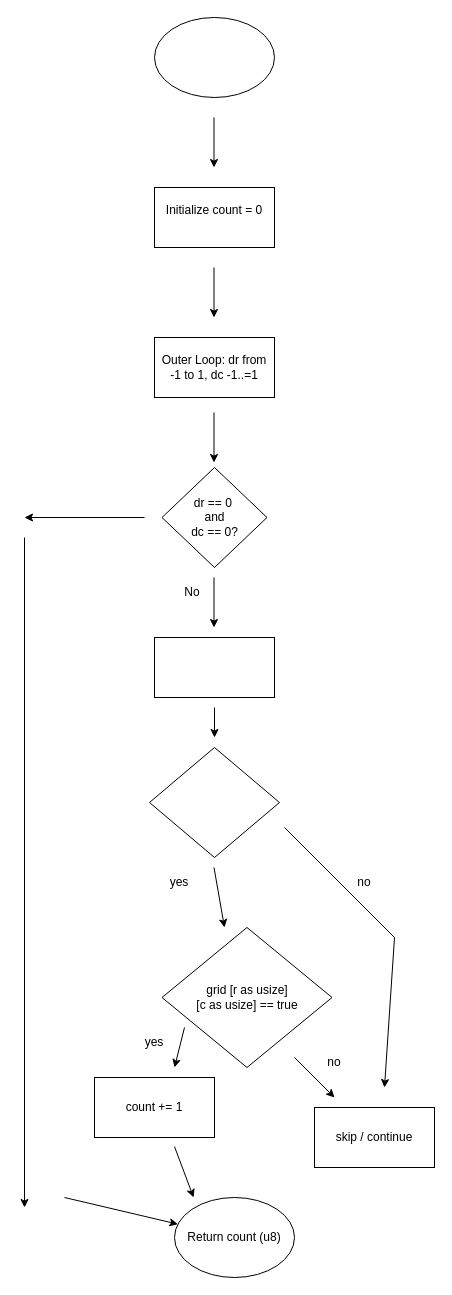
Image size: 452x1295. Some labels were removed from this diagram. The shapes that lost their labels are listed below. From the top down, each one's box as (x1, y1, x2, y2) in pixels, then its label:
(154, 16, 274, 98): Start: count_neighbors
(154, 636, 274, 698): row as isize + dr, c = col as isize + dc
(148, 746, 280, 858): 0 <= r < ROWS and 0 <= c < COLS?
